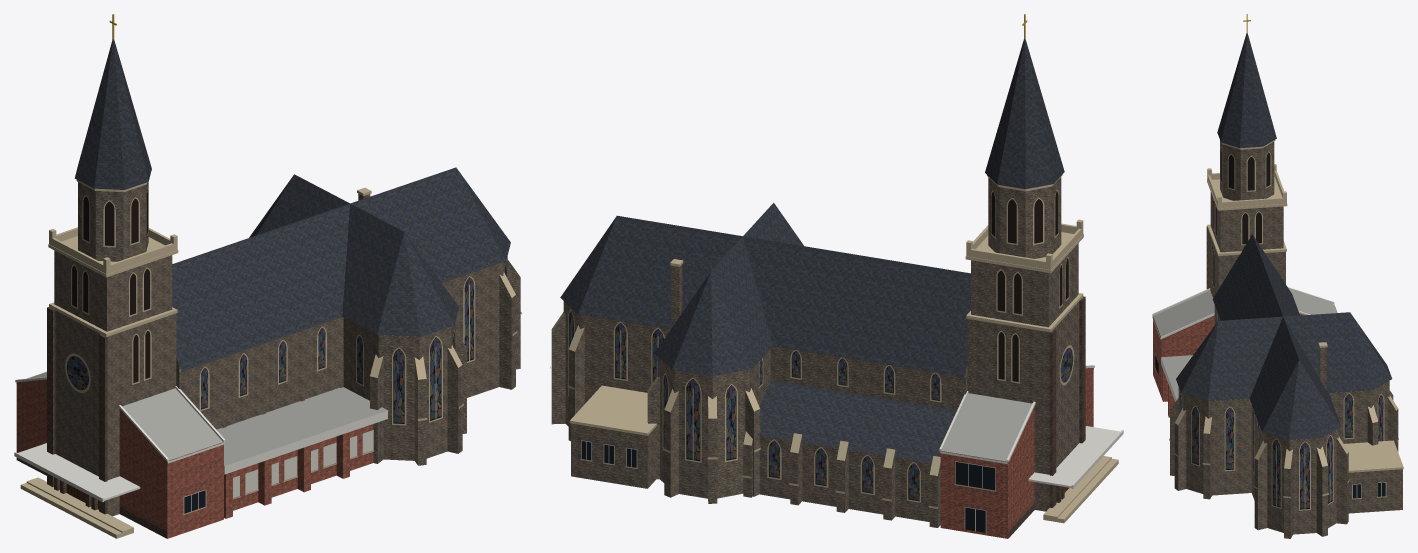
File: model_st-marien.glb
The picture shows the model from 3 angles, left to right: view 1: azimuth 30°, elevation 25°; view 2: azimuth 150°, elevation 25°; view 3: azimuth 270°, elevation 25°; orthographic projection. The views are drawn at different scales.
Visible parts, largest first — view 1: st-marien; view 2: st-marien; view 3: st-marien.
Part boxes in pixels (x1,y1,x2,y2): st-marien: (14,14,521,538); st-marien: (550,14,1123,538); st-marien: (1152,14,1403,538).
Bounding box in the file's own units: 62.28 × 55.9 × 35.04.
Materials: 14 (5 with a texture image).
